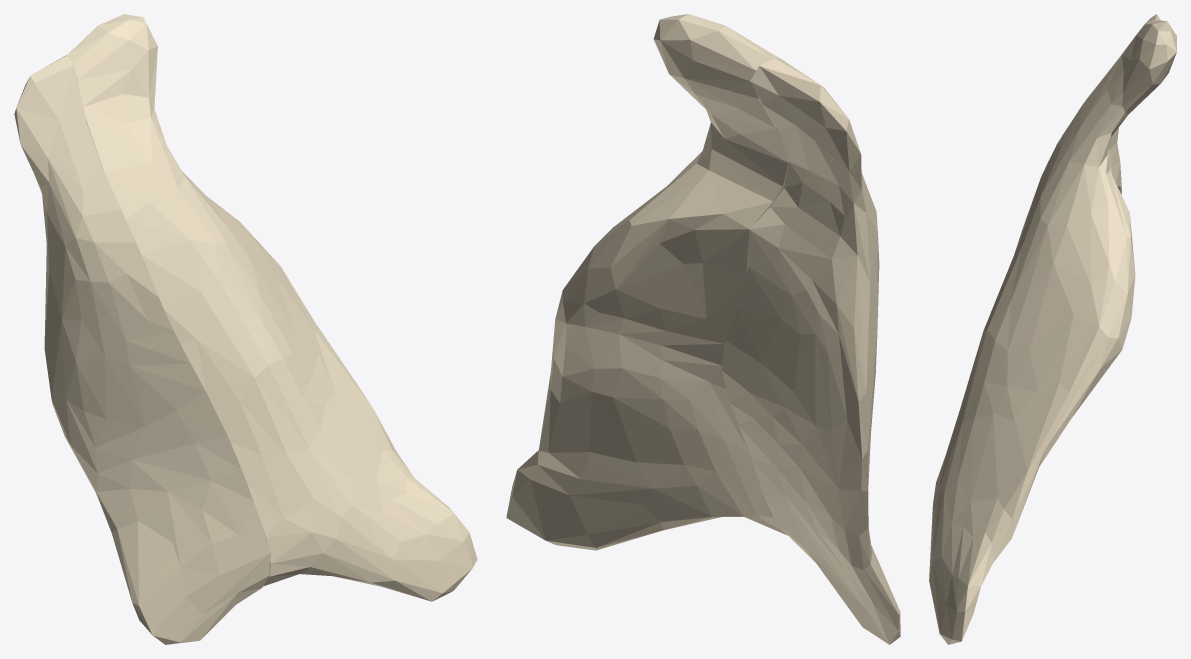
The model's file is VH_F_Thymus_0.2.glb.
3 views of the same model, side by side, from view 1: azimuth 30°, elevation 25°; view 2: azimuth 150°, elevation 25°; view 3: azimuth 270°, elevation 25° (orthographic). The views are drawn at different scales.
Parts seen in each view (by area): view 1: VH_F_thymus_lobe_L, VH_F_thymus_lobe_R; view 2: VH_F_thymus_lobe_L, VH_F_thymus_lobe_R; view 3: VH_F_thymus_lobe_L, VH_F_thymus_lobe_R.
Part boxes in pixels (x1=…): VH_F_thymus_lobe_L: x1=67, y1=14, x2=477, y2=601; VH_F_thymus_lobe_R: x1=14, y1=55, x2=270, y2=644; VH_F_thymus_lobe_L: x1=506, y1=14, x2=788, y2=550; VH_F_thymus_lobe_R: x1=722, y1=58, x2=900, y2=644; VH_F_thymus_lobe_L: x1=929, y1=20, x2=1176, y2=644; VH_F_thymus_lobe_R: x1=1025, y1=14, x2=1160, y2=219.
Bounding box in the file's own units: 0.087 × 0.1238 × 0.0538.
